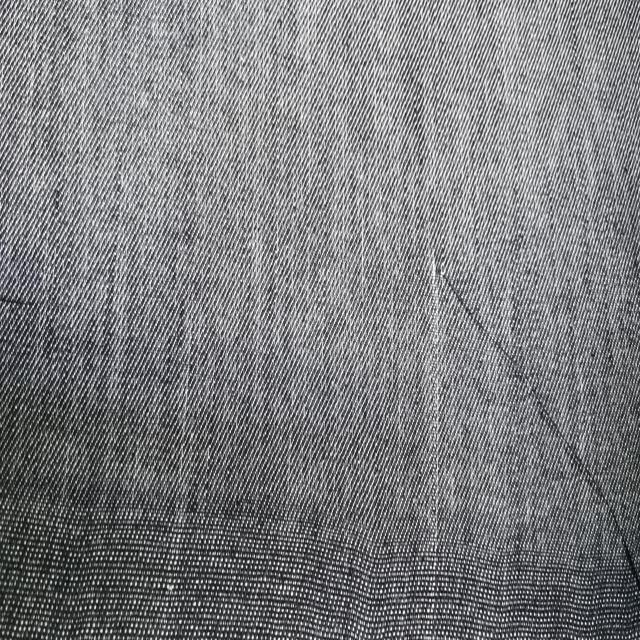defect: (442, 279, 640, 598)
